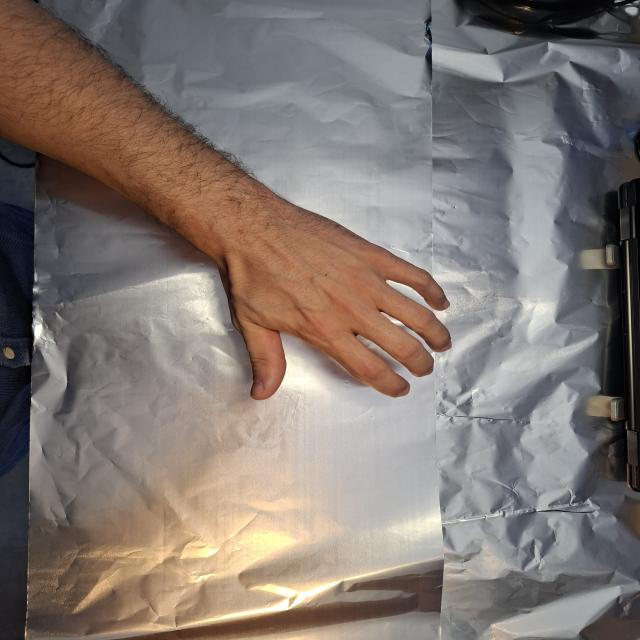glove_off: (194, 202, 455, 403)
